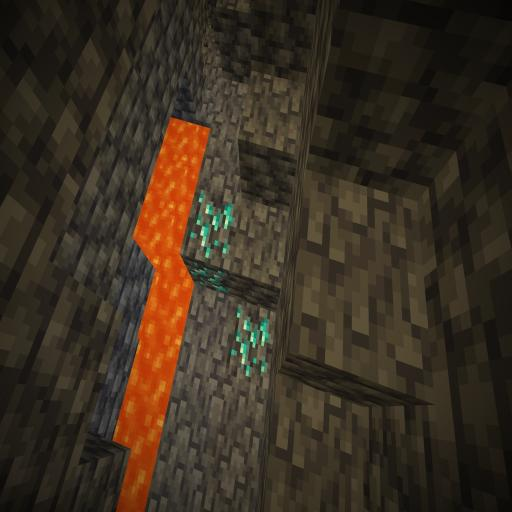diamond ore: (186, 184, 236, 308), (224, 288, 272, 388)
